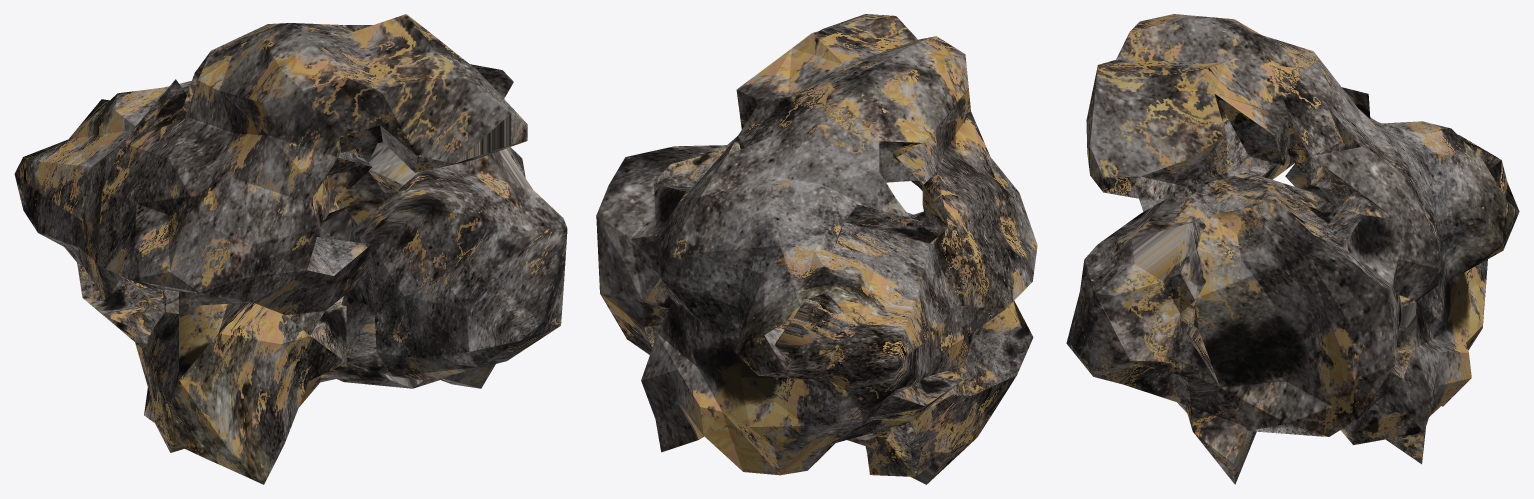
File: Asteroids_Shard_04_M.FBX
The picture shows the model from 3 angles, left to right: view 1: azimuth 30°, elevation 25°; view 2: azimuth 150°, elevation 25°; view 3: azimuth 270°, elevation 25°; orthographic projection. The views are drawn at different scales.
Visible parts, largest first — view 1: MeteorShard_04, MeteorShard_03, MeteorShard_02, MeteorShard_08, MeteorShard_07, MeteorShard_09, MeteorShard_05, MeteorShard_06, MeteorShard_01; view 2: MeteorShard_06, MeteorShard_02, MeteorShard_07, MeteorShard_09, MeteorShard_03, MeteorShard_05, MeteorShard_08, MeteorShard_01; view 3: MeteorShard_05, MeteorShard_02, MeteorShard_04, MeteorShard_06, MeteorShard_01, MeteorShard_09, MeteorShard_07, MeteorShard_03, MeteorShard_08.
Boxes of the visible parts, <box> form: MeteorShard_04: <box>325,147,567,388</box>; MeteorShard_03: <box>96,80,371,305</box>; MeteorShard_02: <box>198,14,527,172</box>; MeteorShard_08: <box>135,237,371,484</box>; MeteorShard_07: <box>14,79,186,300</box>; MeteorShard_09: <box>64,247,178,344</box>; MeteorShard_05: <box>340,64,525,224</box>; MeteorShard_06: <box>69,51,210,138</box>; MeteorShard_01: <box>317,199,357,241</box>; MeteorShard_06: <box>656,132,910,350</box>; MeteorShard_02: <box>736,14,970,183</box>; MeteorShard_07: <box>774,204,1005,394</box>; MeteorShard_09: <box>722,308,962,475</box>; MeteorShard_03: <box>893,111,1037,308</box>; MeteorShard_05: <box>596,144,729,354</box>; MeteorShard_08: <box>788,211,1033,484</box>; MeteorShard_01: <box>641,301,792,471</box>; MeteorShard_05: <box>1160,173,1402,436</box>; MeteorShard_02: <box>1086,14,1365,200</box>; MeteorShard_04: <box>1066,197,1256,484</box>; MeteorShard_06: <box>1311,107,1507,301</box>; MeteorShard_01: <box>1340,242,1471,464</box>; MeteorShard_09: <box>1440,201,1519,406</box>; MeteorShard_07: <box>1285,87,1519,211</box>; MeteorShard_03: <box>1229,154,1294,179</box>; MeteorShard_08: <box>1139,181,1210,211</box>.
Size of the model in its own units: 0.747 by 0.7416 by 0.756.
